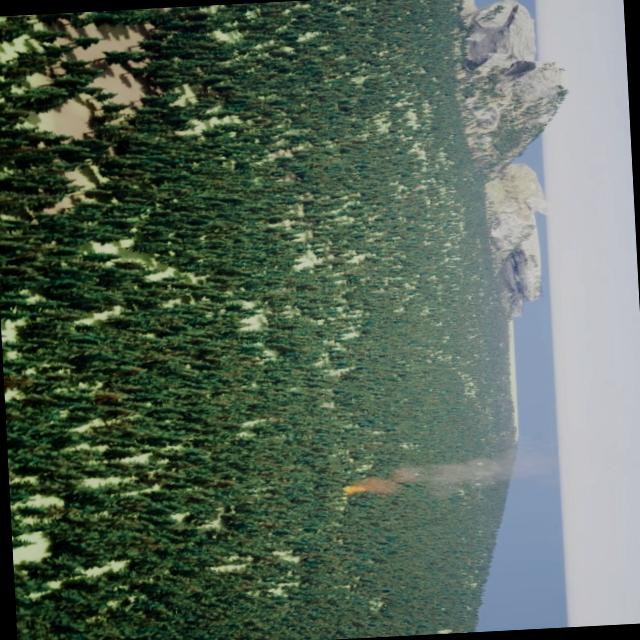fire: (342, 482, 371, 497)
smoke: (376, 448, 540, 500)
